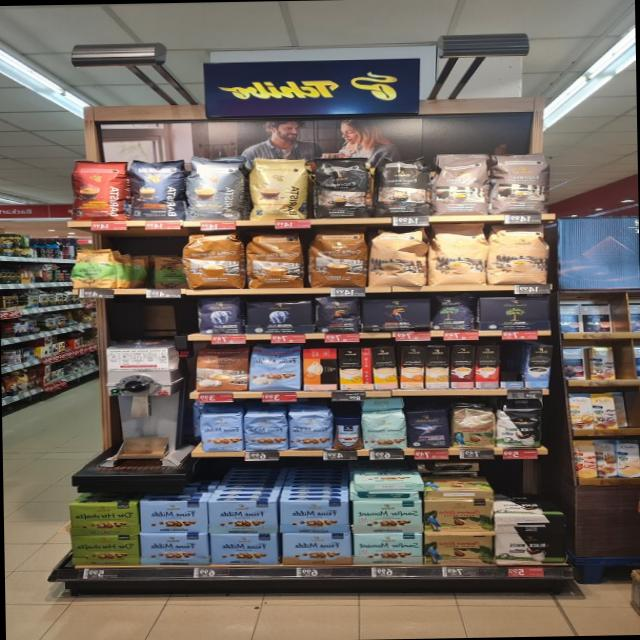AB Bohne: (194, 295, 244, 335)
AB Gemahlen: (242, 299, 316, 334)
Athiopien Bohne: (66, 248, 122, 290)
BM Bohne: (431, 291, 480, 331)
BM Gemahlen: (476, 296, 554, 331)
BW Bohne: (493, 405, 544, 448)
BW Gemahlen: (493, 533, 567, 564)
Barista CB: (246, 156, 314, 221)
Barista CC: (181, 154, 252, 222)
Barista Espresso: (126, 157, 190, 221)
Barista Kolumbien: (70, 159, 132, 221)
C Fino Bohne: (406, 408, 449, 448)
CC Mild: (483, 223, 552, 286), (424, 222, 491, 286), (366, 226, 430, 288)
CC Vollmundig: (192, 345, 252, 392)
CC Vollmundig 36 Pads: (180, 230, 248, 292), (244, 230, 308, 290), (306, 228, 368, 288)
Colombia BB Bohne: (448, 404, 496, 448)
Colombia BB Gemahlen: (420, 498, 496, 532), (421, 532, 496, 566)
Empty Shelf: (498, 345, 526, 387)
Espresso Aromatisch: (428, 151, 492, 218)
Espresso Kraftig: (370, 153, 432, 220)
Espresso M Art: (485, 150, 554, 216)
Espresso S Art: (307, 154, 377, 220)
FM 36 Pads: (246, 343, 306, 392)
FM Bohne: (288, 408, 334, 450), (243, 409, 289, 451), (200, 411, 244, 452)
FM Gemahlen: (206, 499, 280, 534), (276, 499, 352, 533), (138, 499, 210, 534), (138, 531, 210, 566), (278, 532, 354, 565), (208, 533, 280, 566)
FM Instant: (330, 416, 360, 450)
Herzhatfe Mundig: (70, 533, 140, 567), (68, 502, 138, 536)
LG Bohne: (312, 295, 360, 334)
LG Gemahlen: (358, 297, 432, 331)
SM Bohne: (361, 408, 406, 449)
SM Gemahlen: (351, 499, 423, 534), (352, 533, 426, 566)
Simo CCMild: (337, 346, 373, 390)
Simo CCMild bigpack: (372, 346, 398, 389)
Simo CCVollmundig bigpack: (397, 346, 426, 390)
Simo Decaff: (422, 344, 450, 388)
Simo Es Elegant: (473, 345, 501, 389)
Simo Es Kraft: (447, 344, 476, 388)
Simo Kaffee Mild: (523, 345, 553, 388)
